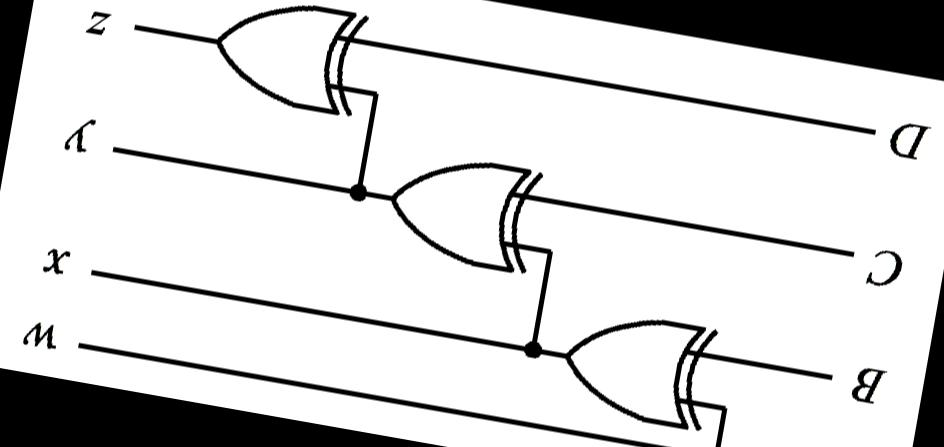xor: (364, 124, 557, 288), (540, 292, 730, 438), (189, 0, 380, 128)
